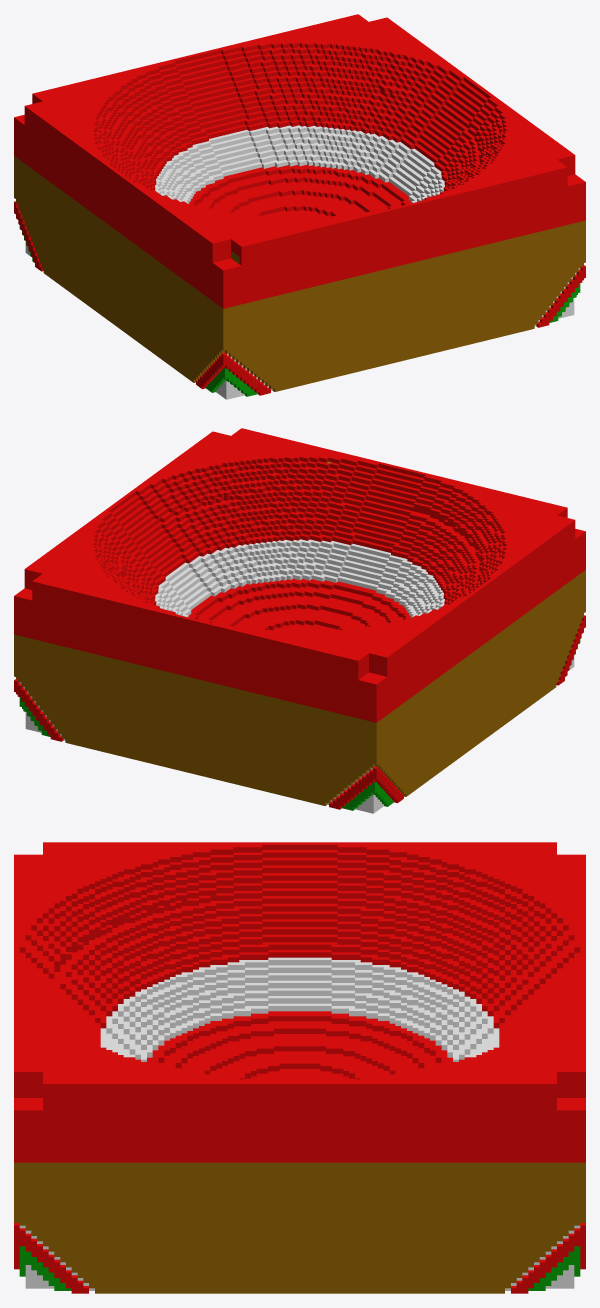
Rendered from Sphere_Holder.obj.
The picture shows the model from 3 angles, top to bottom: view 1: azimuth 30°, elevation 25°; view 2: azimuth 150°, elevation 25°; view 3: azimuth 270°, elevation 25°; orthographic projection. The views are drawn at different scales.
Size of the model in its own units: 9.9 by 4 by 9.9.
1 material, 1 textured.
